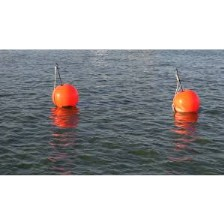buoy: (172, 90, 199, 112), (52, 85, 78, 107)
